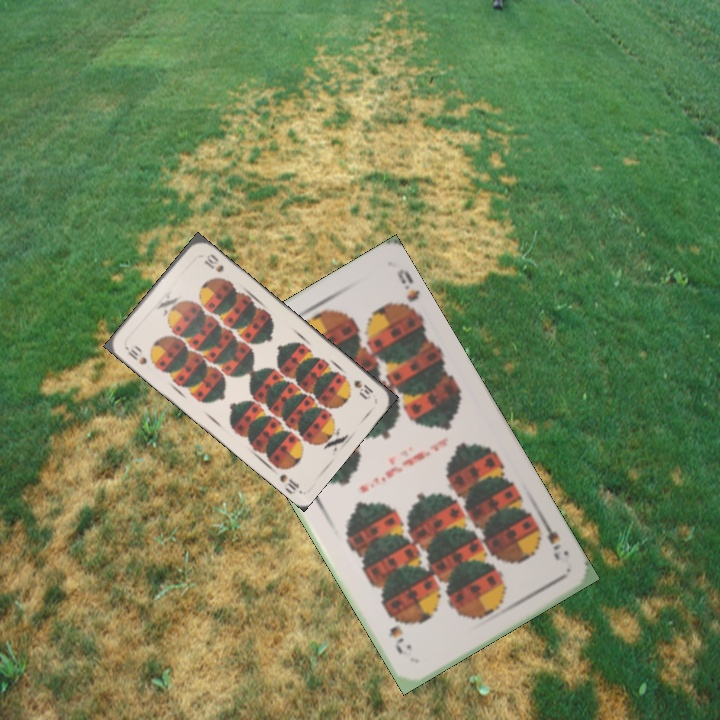S10: (349, 375, 376, 401), (124, 345, 150, 367)
S9: (531, 513, 564, 564)
